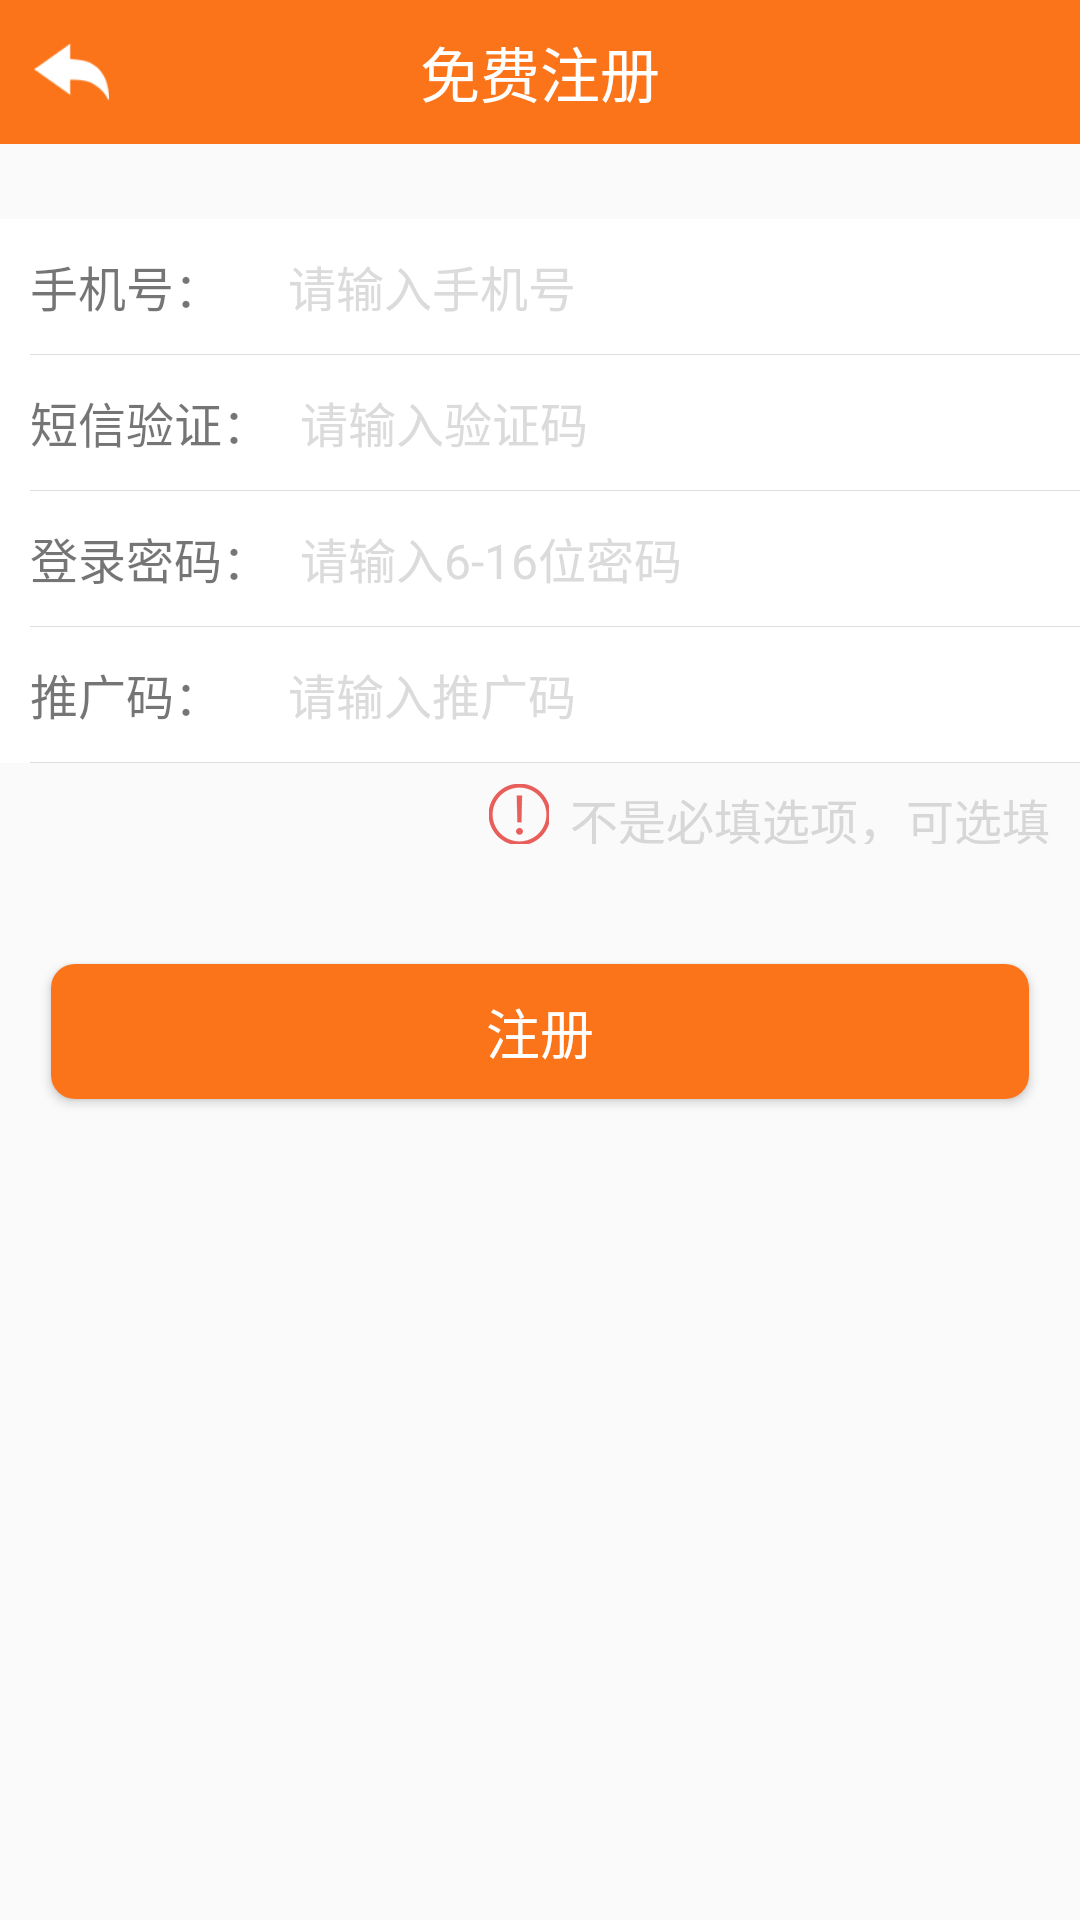

Screen size 1080×1920. Icon name, then its center in pixels as point (x, y):
fanhui: point (71, 72)
